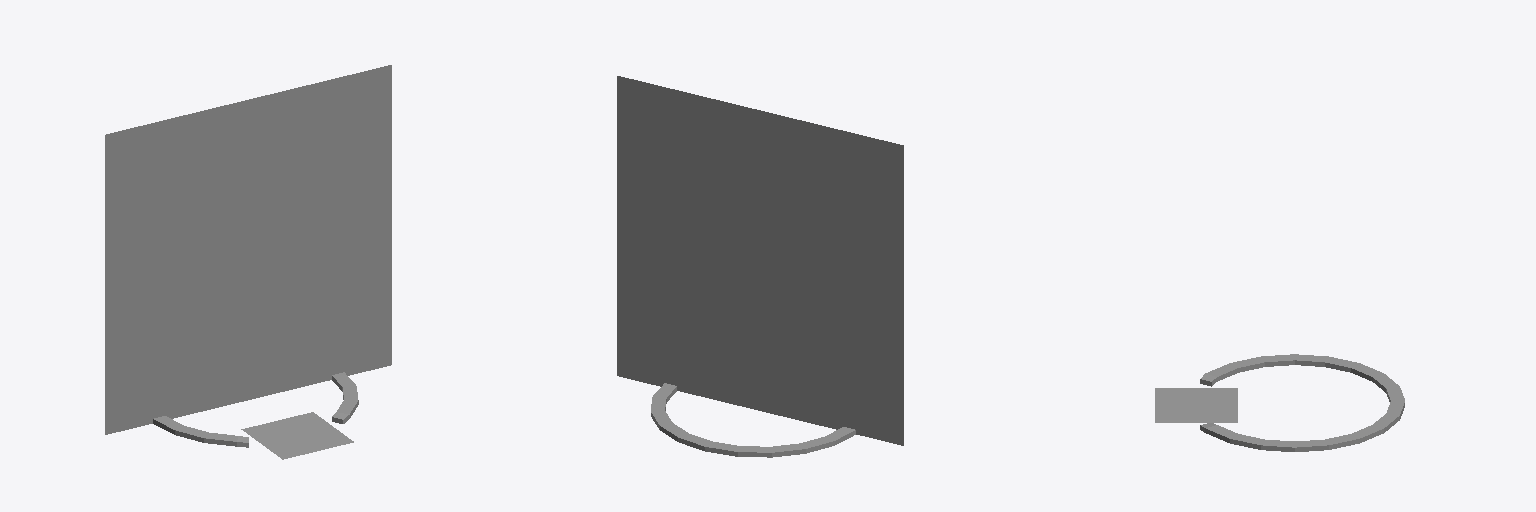
3 views of the same model, side by side, from view 1: azimuth 30°, elevation 25°; view 2: azimuth 150°, elevation 25°; view 3: azimuth 270°, elevation 25° (orthographic).
Parts seen in each view (by area): view 1: c_face_Plane.003, c_back_Plane.006, icon_Plane.005, tt_base_Cylinder.001; view 2: c_face_Plane.003, c_back_Plane.006, tt_base_Cylinder.001; view 3: tt_base_Cylinder.001, icon_Plane.005.
Part boxes in pixels (x1,y1,x2,y2): c_face_Plane.003: (179,65,391,405); c_back_Plane.006: (105,97,342,434); icon_Plane.005: (241,412,353,459); tt_base_Cylinder.001: (153,372,358,447); c_face_Plane.003: (656,101,903,445); c_back_Plane.006: (617,76,819,424); tt_base_Cylinder.001: (651,383,855,457); tt_base_Cylinder.001: (1200,354,1404,451); icon_Plane.005: (1155,388,1237,422).
Bounding box in the file's own units: 6 × 6.02 × 4.54.